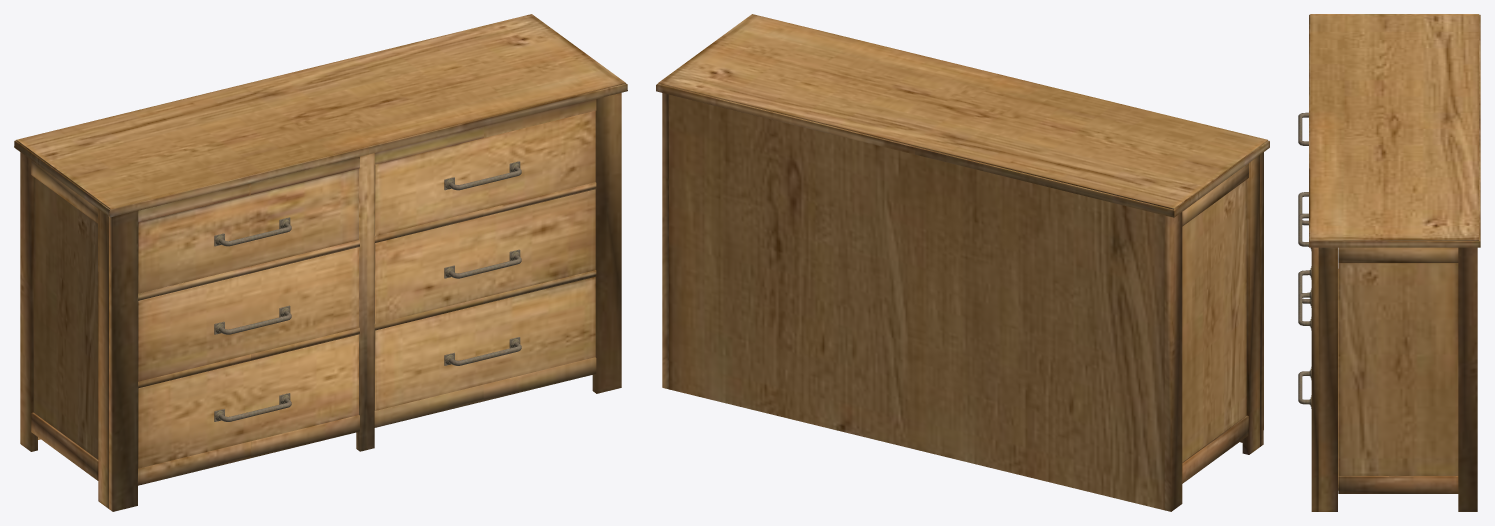
3 views of the same model, side by side, from view 1: azimuth 30°, elevation 25°; view 2: azimuth 150°, elevation 25°; view 3: azimuth 270°, elevation 25° (orthographic). The views are drawn at different scales.
Visible parts, largest first — view 1: visual_RootNode; view 2: visual_RootNode; view 3: visual_RootNode.
Part boxes in pixels (x1,y1,x2,y2): visual_RootNode: (14,14,627,511); visual_RootNode: (656,14,1269,511); visual_RootNode: (1298,14,1480,511).
Size of the model in its own units: 1.66 by 0.5633 by 0.9318.
Materials: 1 (1 with a texture image).
